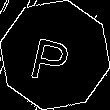P_N: (31, 26, 79, 84)
